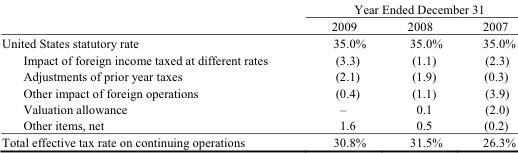table: (1, 0, 514, 150)
table column: (1, 0, 298, 150), (298, 0, 385, 150), (385, 0, 461, 150), (461, 0, 514, 150)
table column header: (1, 0, 514, 34)
table row: (1, 0, 514, 17), (1, 17, 514, 34), (1, 34, 514, 51), (1, 83, 514, 100), (1, 116, 514, 133), (1, 133, 514, 150), (1, 51, 514, 67), (1, 67, 514, 83), (1, 100, 514, 116)
table spanning cell: (298, 0, 514, 17)
